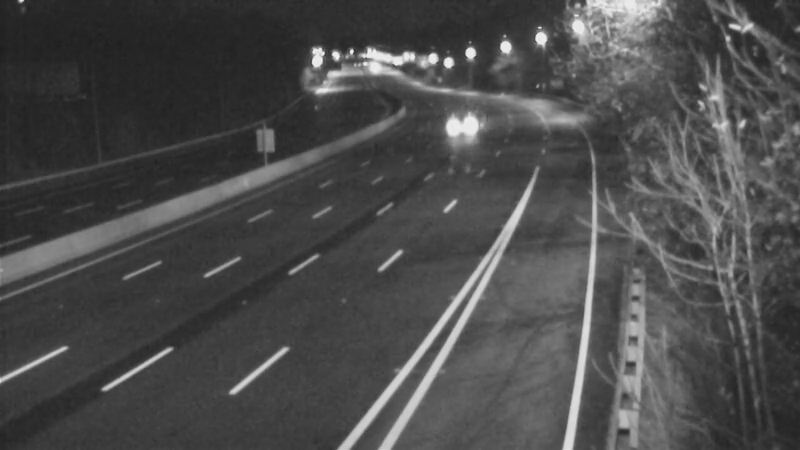vehicle: (438, 97, 488, 147)
